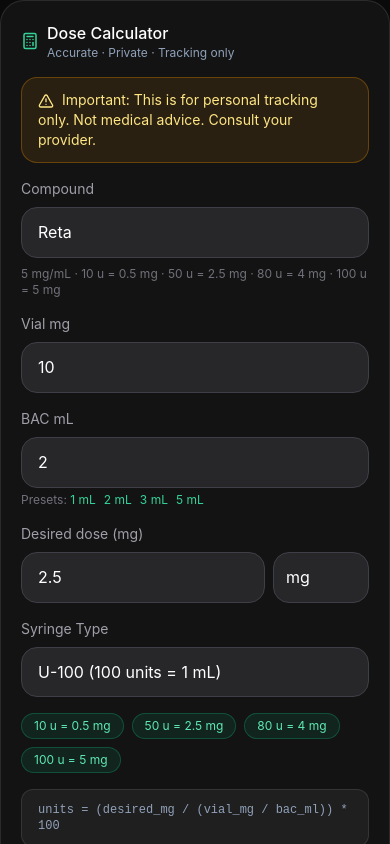
DSIP library surfaces › Dose Calculator auto-fills 10 mg / 2 mL and 100 mcg = 2 units
Step 1. Select "DSIP" in the 1st dropdown → (195, 232), box [21,207,369,258]
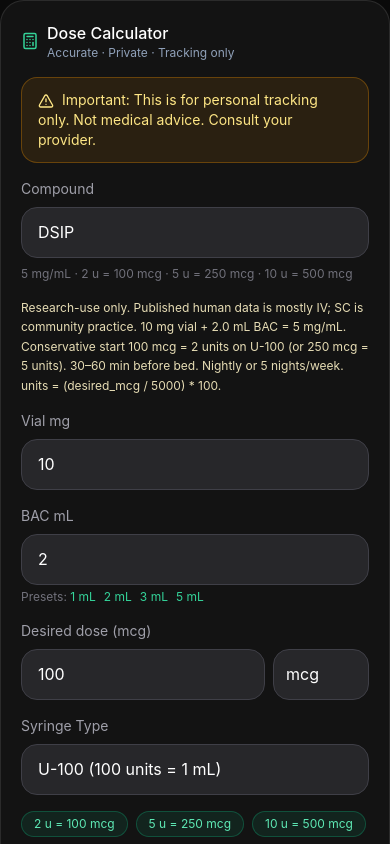
Expected: the field below "Vial mg" holds "10", [21,439,369,490]
Now the field below "Desired dose (" holds "100", box [21,649,265,700]
Now the text "Research-use only" is shown, box [21,300,369,393]
